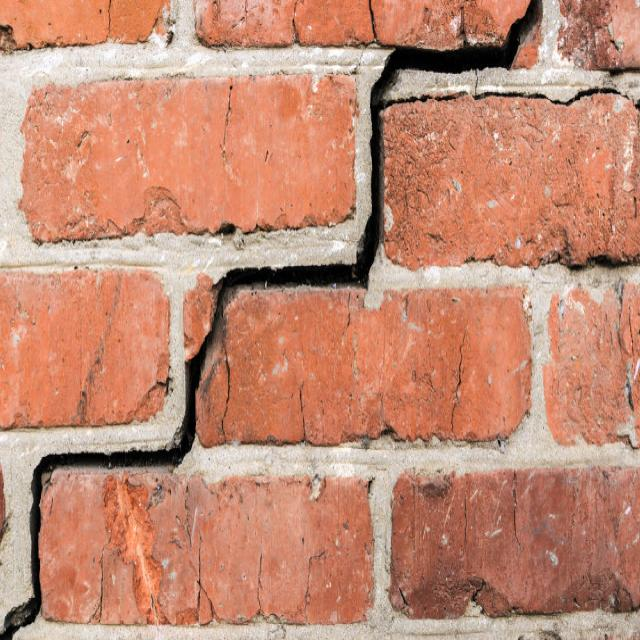Crack: (0, 1, 546, 639)
